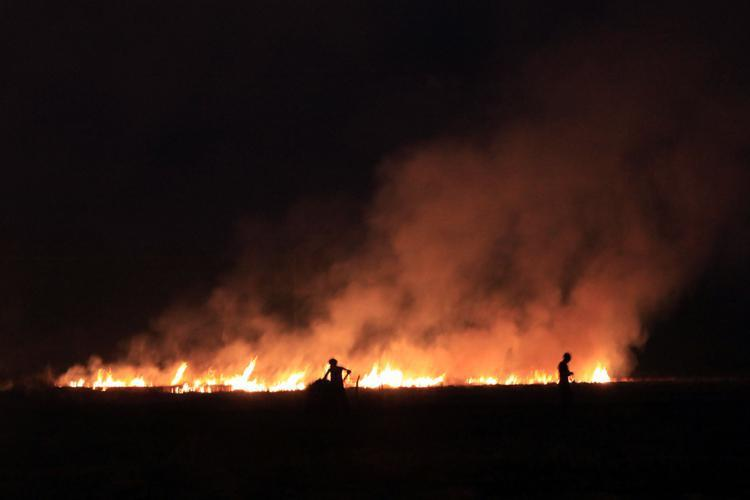fire: (70, 359, 601, 393)
